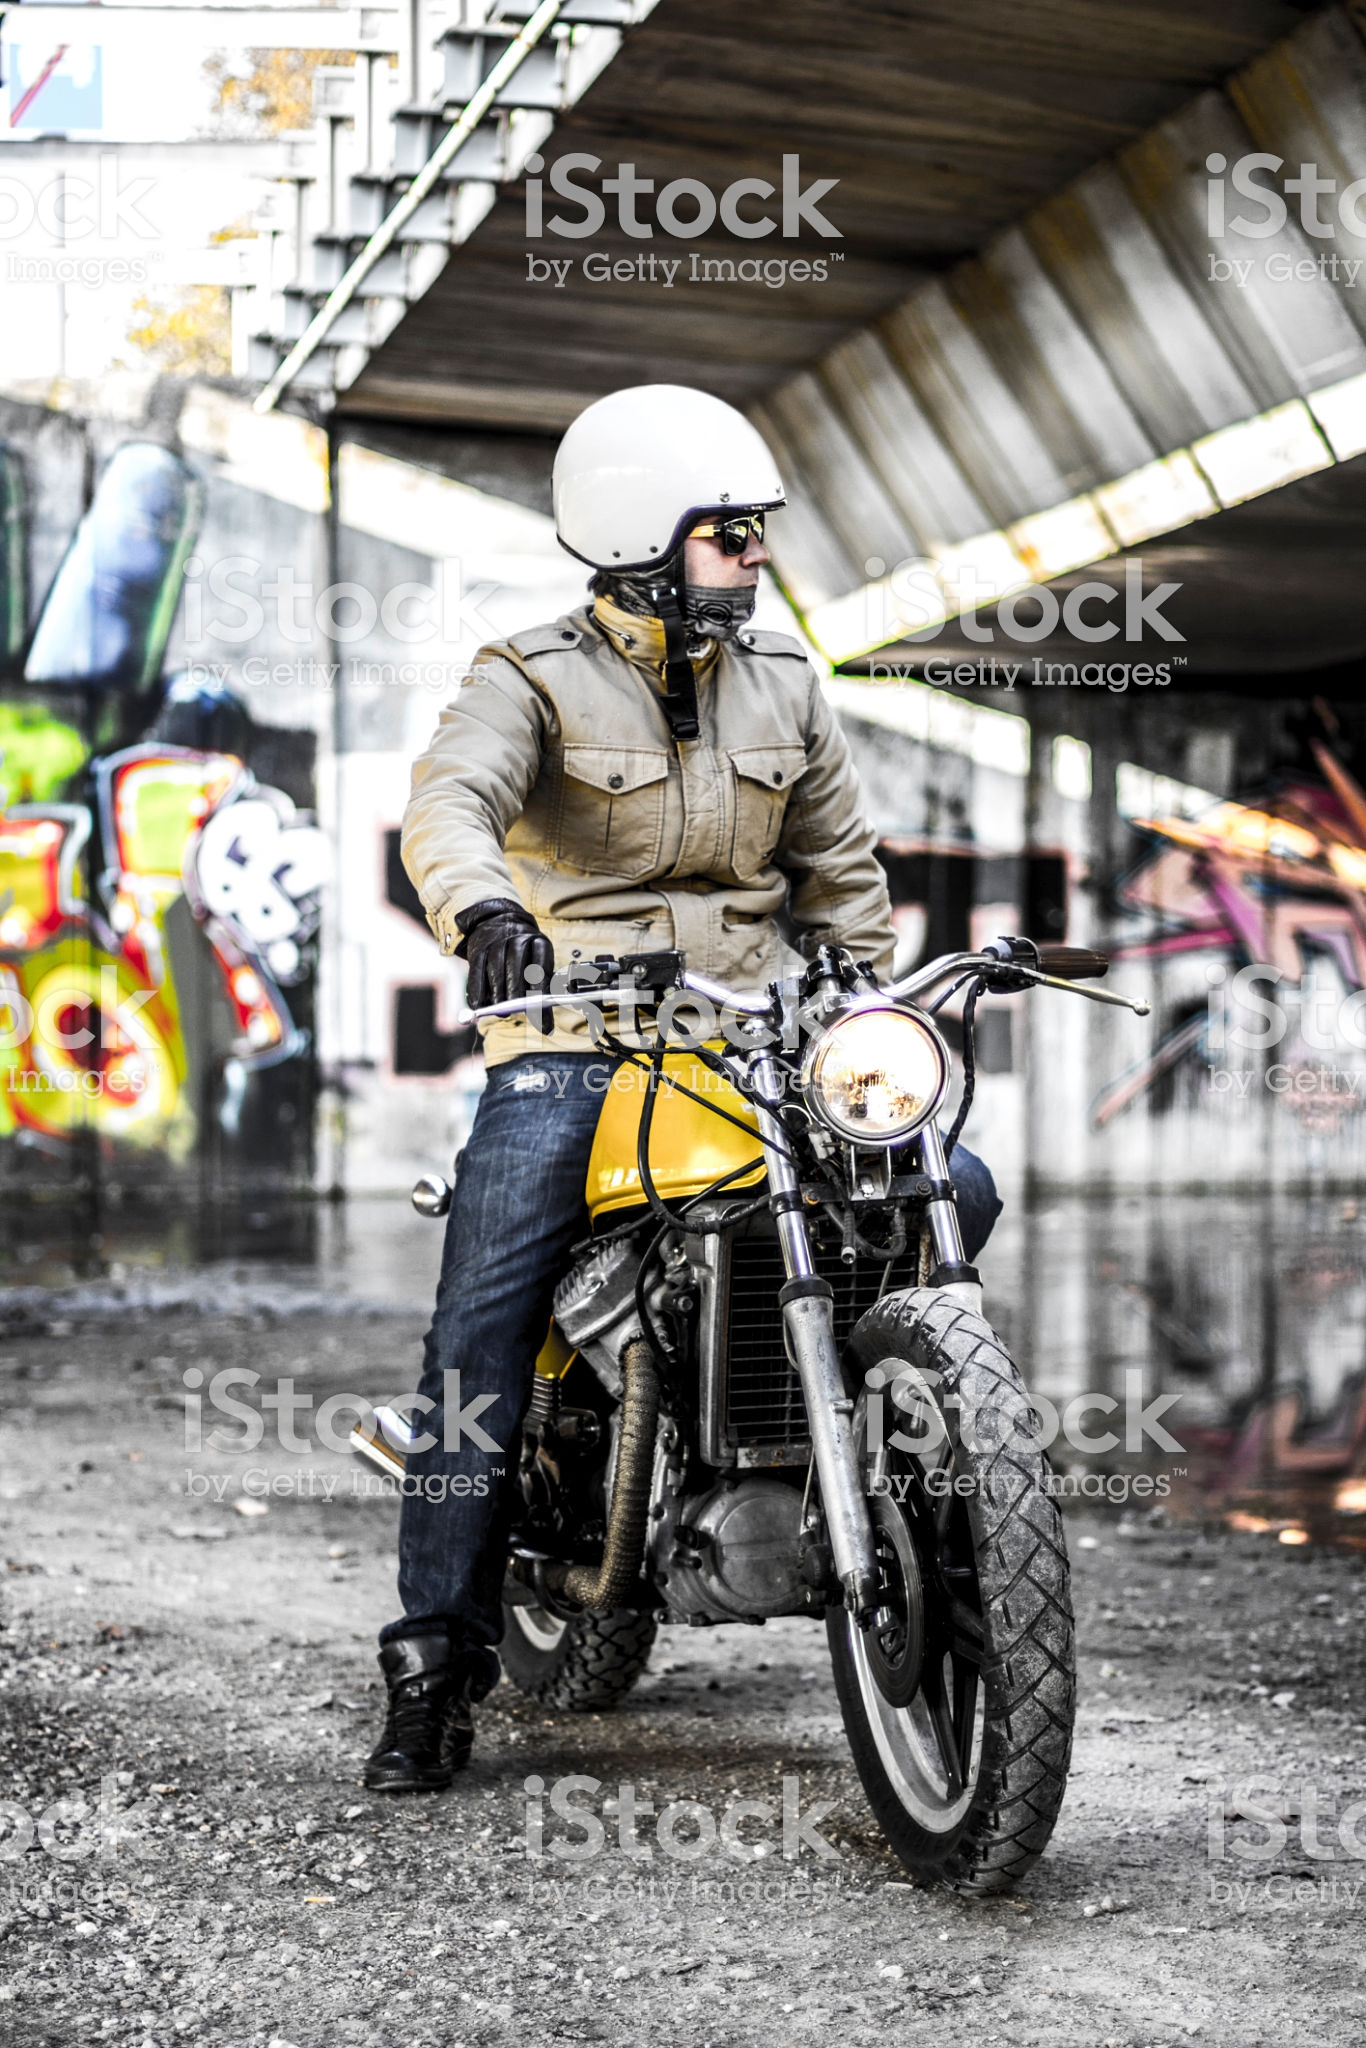helmet: (544, 369, 797, 568)
